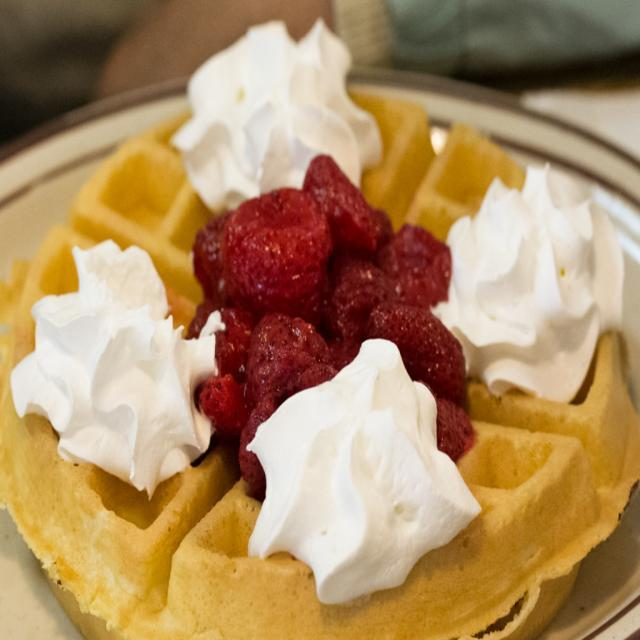Waffle: (0, 89, 639, 639)
